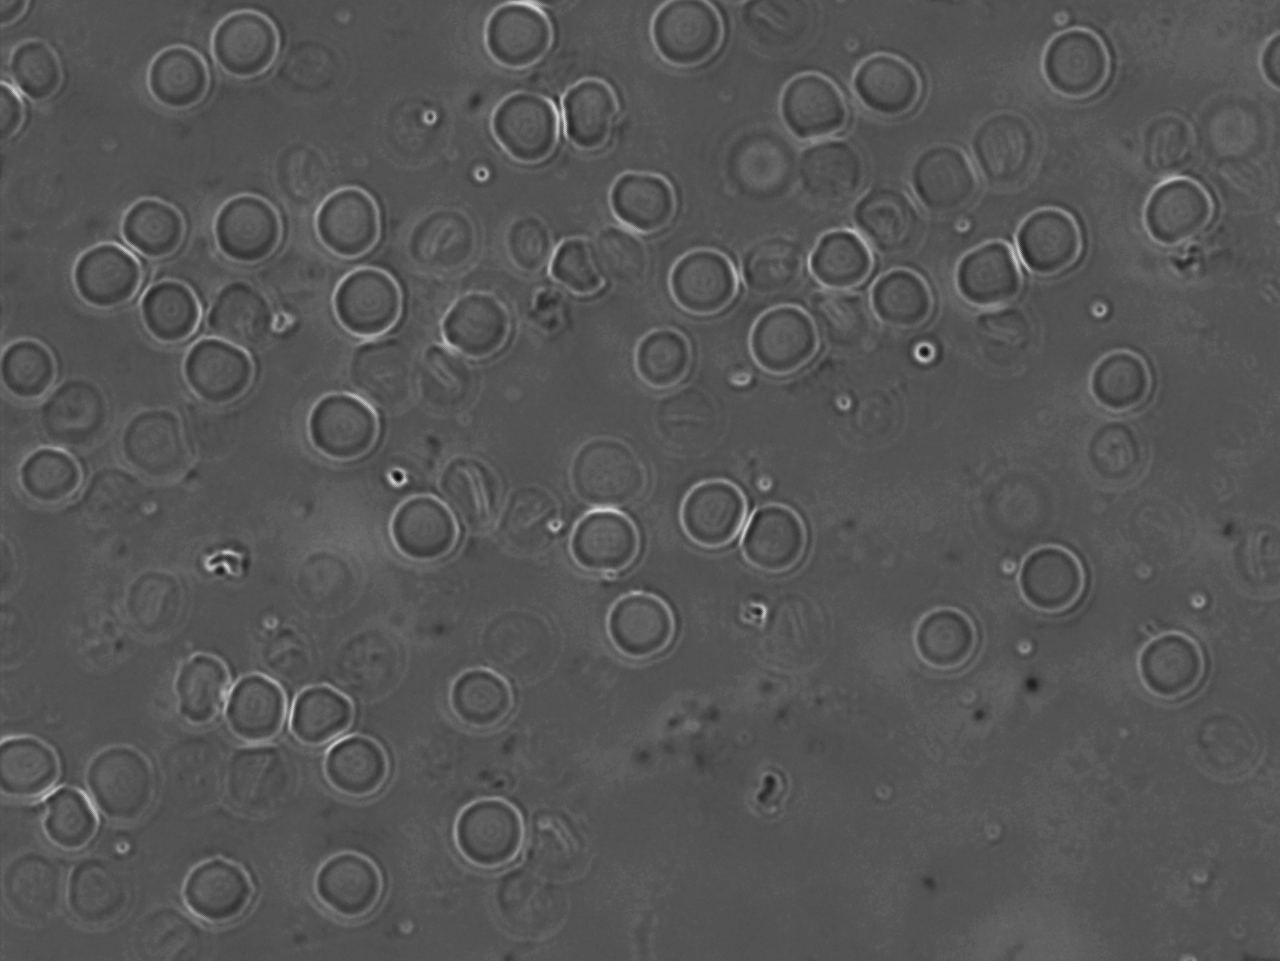depth:0: (298, 180, 405, 273), (313, 258, 410, 355), (428, 277, 525, 370), (1033, 17, 1129, 110), (836, 35, 930, 128), (530, 70, 630, 156), (1127, 624, 1220, 715), (175, 321, 266, 413), (276, 665, 367, 757), (1009, 536, 1102, 627), (440, 787, 538, 873), (5, 436, 99, 525), (1130, 171, 1230, 252), (663, 241, 755, 328), (203, 190, 296, 276), (80, 736, 171, 823), (906, 593, 990, 686), (619, 322, 712, 406), (199, 0, 289, 86), (173, 846, 262, 931), (310, 723, 402, 806), (63, 237, 152, 321), (486, 85, 572, 170), (598, 585, 687, 667), (949, 237, 1032, 325), (303, 840, 391, 923), (116, 185, 206, 265), (565, 500, 651, 583), (856, 257, 942, 341), (303, 379, 386, 465), (732, 498, 815, 584), (672, 471, 760, 553), (740, 300, 828, 382), (437, 660, 526, 741), (382, 485, 467, 567), (771, 61, 853, 146), (1007, 197, 1090, 281), (595, 161, 682, 239), (119, 408, 205, 488), (1081, 340, 1163, 421), (213, 663, 294, 745), (141, 38, 221, 121), (908, 139, 993, 216), (411, 195, 486, 280), (799, 221, 879, 300), (28, 777, 112, 851), (131, 268, 209, 346)
